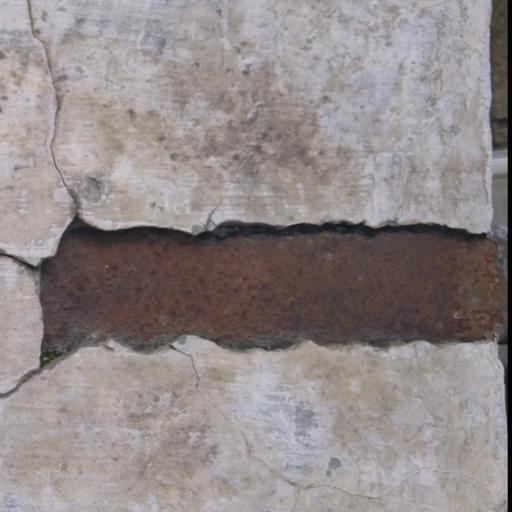spalling: (12, 126, 512, 401)
